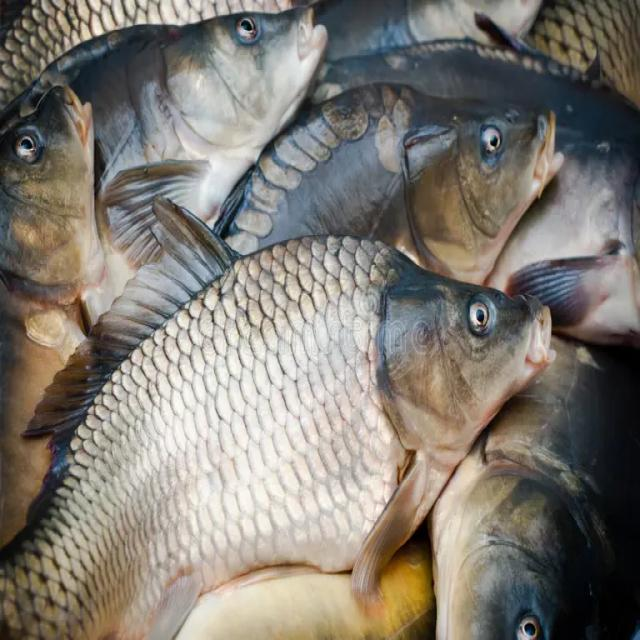Common carp: (0, 191, 556, 639)
